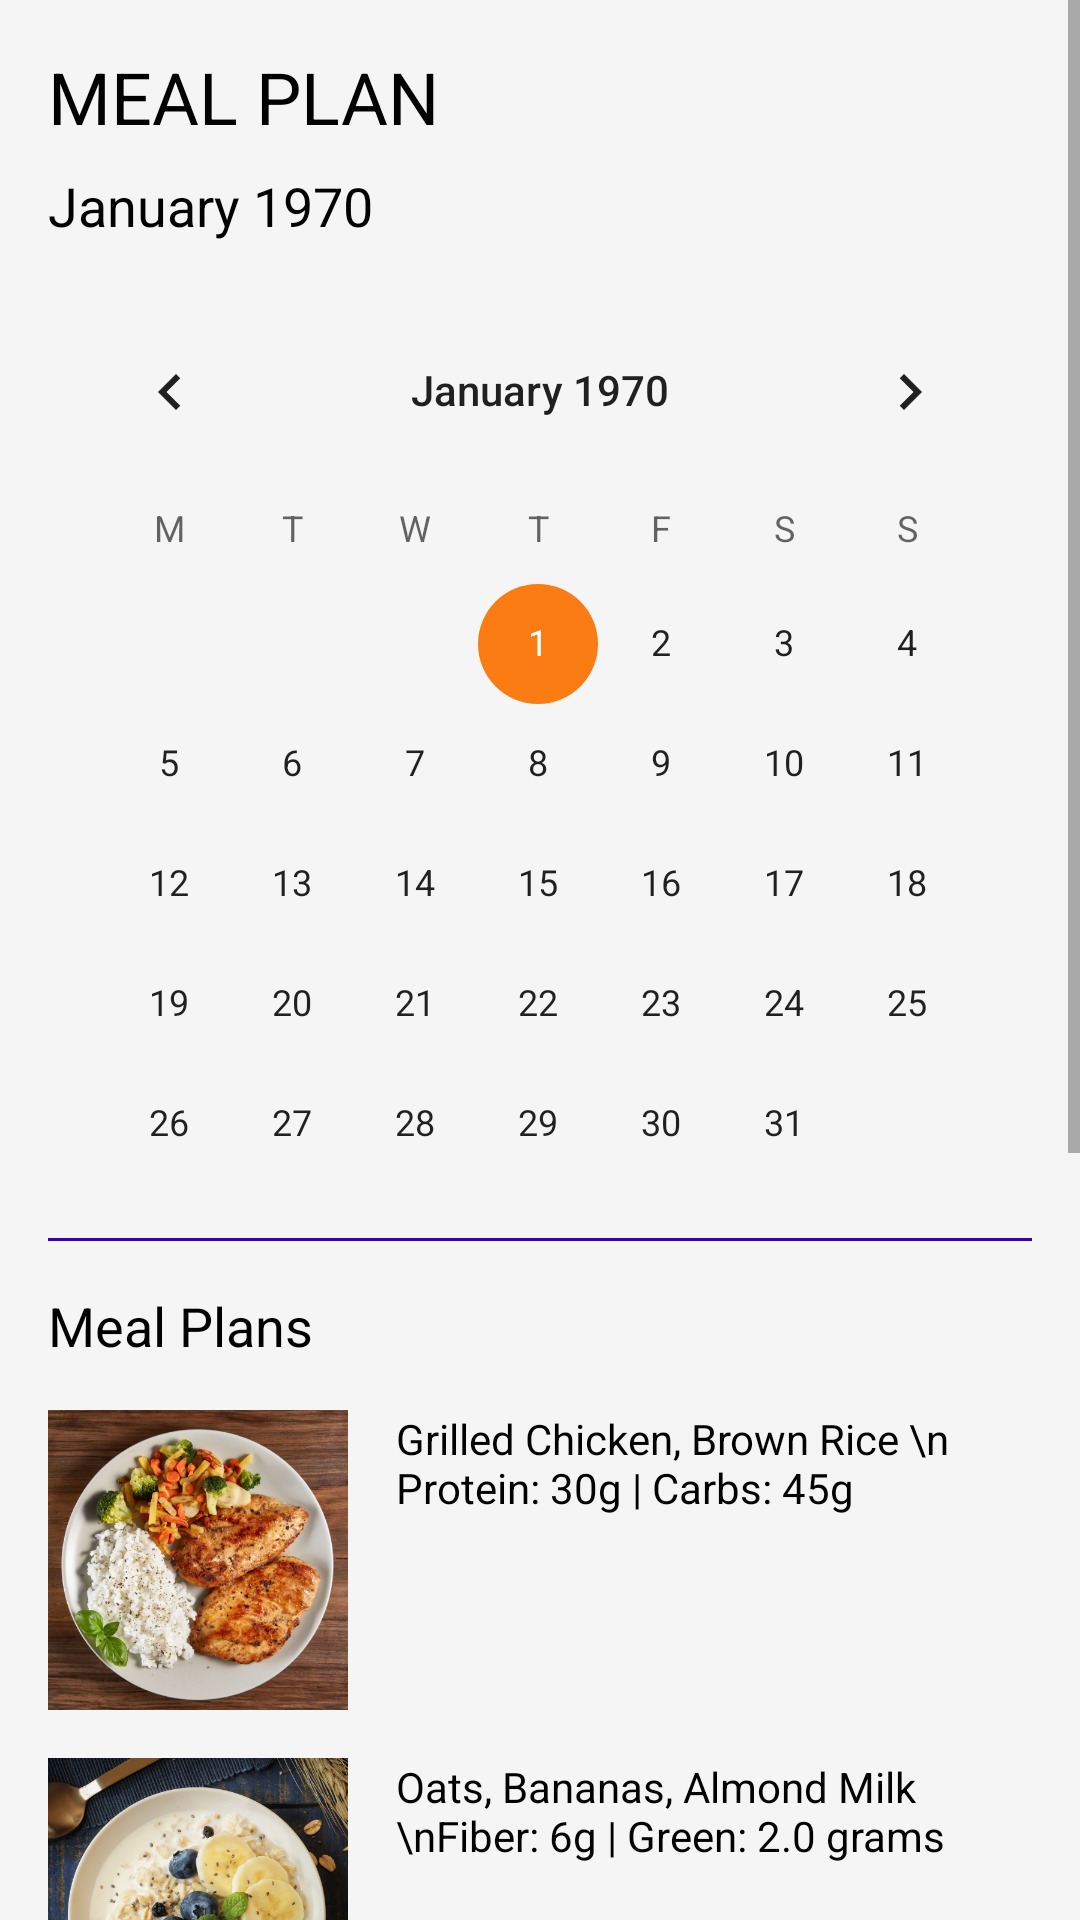

Icon bounding boxes for this 1080w x 1920h phone screenshot, format (x1, y1, x2, y2):
Meal Plan 1: (48, 1410, 348, 1710)
